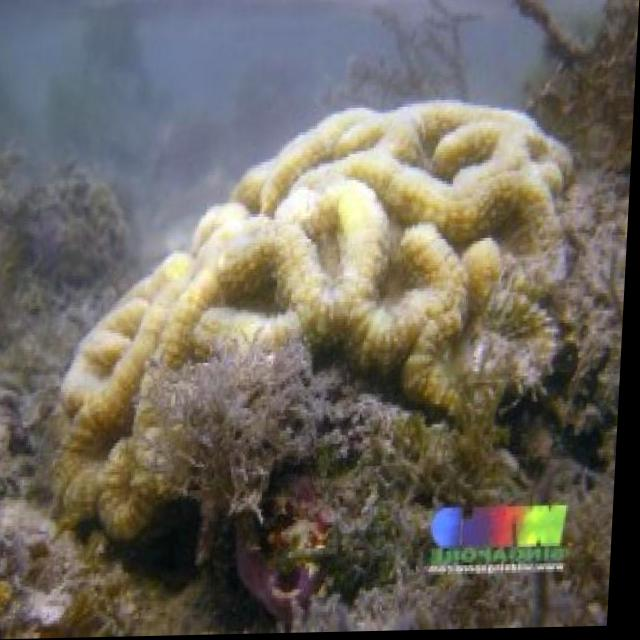Bleached Coral: (47, 84, 559, 529)
